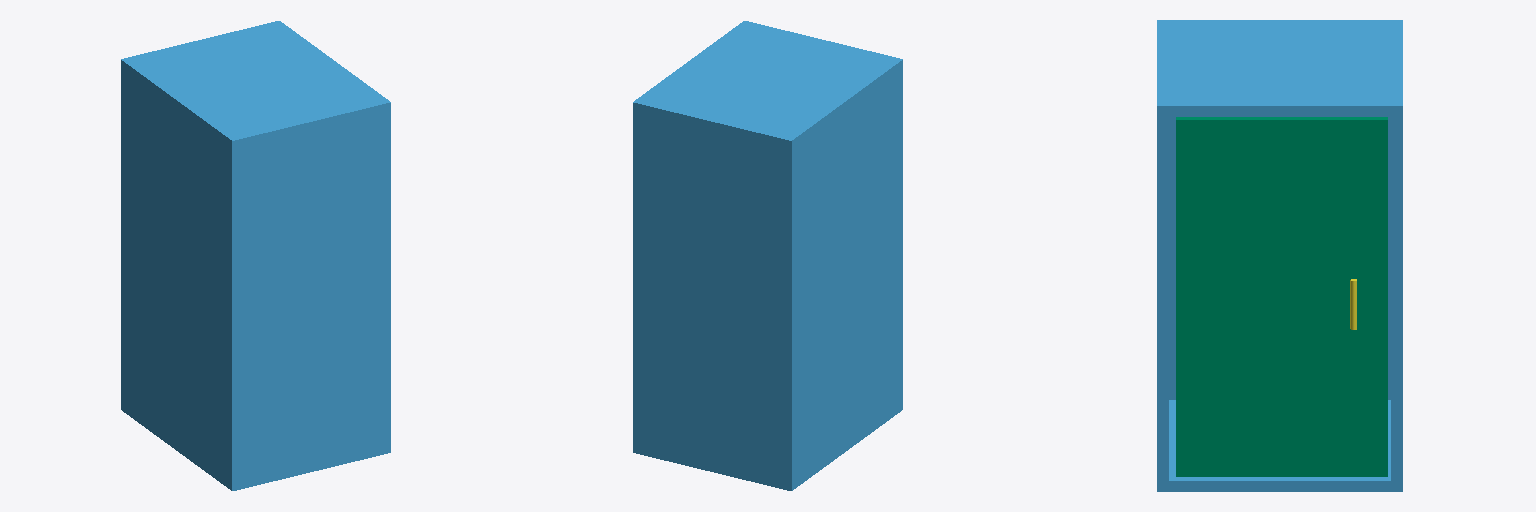
URDF robot description (my_cabinet):
<?xml version="1.0" ?>
<robot name="my_cabinet">
	<link name="world"/>
	<joint name="virtual_joint" type="fixed">
		<parent link="world"/>
		<child link="base_cabinet_link"/>
		<origin xyz="0.0 0.0 0.0" rpy="0.0 0.0 0.0"/>
	</joint>
	<link name="base_cabinet_link">
		<visual>
			<origin xyz="0.0 -0.0025 -0.306959572678262" rpy="0.0 0.0 0.0"/>
			<geometry>
				<box size="0.3 0.3652977279734608 0.018"/>
			</geometry>
		</visual>
		<collision name="base_cabinet_link_collision_0">
			<origin xyz="0.0 -0.0025 -0.306959572678262" rpy="0.0 0.0 0.0"/>
			<geometry>
				<box size="0.3 0.3652977279734608 0.018"/>
			</geometry>
		</collision>
		<visual>
			<origin xyz="0.0 0.1711488639867304 0.0" rpy="0.0 0.0 0.0"/>
			<geometry>
				<box size="0.3 0.018 0.631919145356524"/>
			</geometry>
		</visual>
		<collision name="base_cabinet_link_collision_1">
			<origin xyz="0.0 0.1711488639867304 0.0" rpy="0.0 0.0 0.0"/>
			<geometry>
				<box size="0.3 0.018 0.631919145356524"/>
			</geometry>
		</collision>
		<visual>
			<origin xyz="0.0 -0.1761488639867304 0.0" rpy="0.0 0.0 0.0"/>
			<geometry>
				<box size="0.3 0.018 0.631919145356524"/>
			</geometry>
		</visual>
		<collision name="base_cabinet_link_collision_2">
			<origin xyz="0.0 -0.1761488639867304 0.0" rpy="0.0 0.0 0.0"/>
			<geometry>
				<box size="0.3 0.018 0.631919145356524"/>
			</geometry>
		</collision>
		<visual>
			<origin xyz="0.0 -0.0025 0.306959572678262" rpy="0.0 0.0 0.0"/>
			<geometry>
				<box size="0.3 0.3652977279734608 0.018"/>
			</geometry>
		</visual>
		<collision name="base_cabinet_link_collision_3">
			<origin xyz="0.0 -0.0025 0.306959572678262" rpy="0.0 0.0 0.0"/>
			<geometry>
				<box size="0.3 0.3652977279734608 0.018"/>
			</geometry>
		</collision>
		<visual>
			<origin xyz="-0.141 -0.0025 0.0" rpy="0.0 0.0 0.0"/>
			<geometry>
				<box size="0.018 0.3652977279734608 0.631919145356524"/>
			</geometry>
		</visual>
		<collision name="base_cabinet_link_collision_4">
			<origin xyz="-0.141 -0.0025 0.0" rpy="0.0 0.0 0.0"/>
			<geometry>
				<box size="0.018 0.3652977279734608 0.631919145356524"/>
			</geometry>
		</collision>
		<inertial>
			<mass value="0.200000"/>
			<inertia ixx="0.008879" ixy="0.0" ixz="0.0" iyy="0.008155" iyz="0.0" izz="0.003724"/>
		</inertial>
	</link>
	<link name="door_link">
		<visual>
			<origin xyz="0.0 -0.1571488639867304 0.0"/>
			<geometry>
				<box size="0.018 0.3142977279734608 0.585919145356524"/>
			</geometry>
		</visual>
		<collision name="door_link_collision">
			<origin xyz="0.0 -0.1571488639867304 0.0"/>
			<geometry>
				<box size="0.018 0.3142977279734608 0.585919145356524"/>
			</geometry>
		</collision>
		<inertial>
			<mass value="0.200000"/>
			<inertia ixx="0.007368" ixy="0.0" ixz="0.0" iyy="0.005727" iyz="0.0" izz="0.001652"/>
		</inertial>
	</link>
	<joint name="door_joint" type="revolute">
		<origin xyz="0.141 -0.1571488639867304 0.0" rpy="0.000000 -0.000000 3.141593"/>
		<axis xyz="0 0 1"/>
		<parent link="base_cabinet_link"/>
		<child link="door_link"/>
		<limit effort="50" lower="-1.658062789394613" upper="0" velocity="10"/>
		<dynamics friction="3.5" damping="3.5"/>
	</joint>
	<link name="handle_link">
		<visual>
			<origin xyz="0.0 0.0 0.0" rpy="0.0 0.0 0.0"/>
			<geometry>
				<cylinder length="0.08" radius="0.005"/>
			</geometry>
		</visual>
		<collision name="handle_link_collision_0">
			<origin xyz="0.0 0.0 0.0" rpy="0.0 0.0 0.0"/>
			<geometry>
				<cylinder length="0.08" radius="0.005"/>
			</geometry>
		</collision>
		<visual>
			<origin xyz="-0.01 0.0 0.02" rpy="0.0 1.5707963267948966 0.0"/>
			<geometry>
				<cylinder length="0.02" radius="0.003"/>
			</geometry>
		</visual>
		<collision name="handle_link_collision_1">
			<origin xyz="-0.01 0.0 0.02" rpy="0.0 1.5707963267948966 0.0"/>
			<geometry>
				<cylinder length="0.01" radius="0.003"/>
			</geometry>
		</collision>
		<visual>
			<origin xyz="-0.01 0.0 -0.02" rpy="0.0 1.5707963267948966 0.0"/>
			<geometry>
				<cylinder length="0.02" radius="0.003"/>
			</geometry>
		</visual>
		<collision name="handle_link_collision_2">
			<origin xyz="-0.01 0.0 -0.02" rpy="0.0 1.5707963267948966 0.0"/>
			<geometry>
				<cylinder length="0.02" radius="0.003"/>
			</geometry>
		</collision>
		<inertial>
			<mass value="0.050000"/>
			<inertia ixx="0.000027" ixy="0.0" ixz="0.0" iyy="0.000029" iyz="0.0" izz="0.000003"/>
		</inertial>
	</link>
	<joint name="handle_joint" type="fixed">
		<origin xyz="-0.028999999999999998 -0.2642977279734608 0.0" rpy="0.000000 -0.000000 3.141593"/>
		<parent link="door_link"/>
		<child link="handle_link"/>
	</joint>
	<gazebo reference="base_cabinet_link">
		<sensor name="main_sensor" type="contact">
			<selfCollide>true</selfCollide>
			<alwaysOn>true</alwaysOn>
			<updateRate>5.0</updateRate>
			<material>Gazebo/Red</material>
			<contact>
				<collision>base_cabinet_link_collision_0_collision</collision>
				<collision>base_cabinet_link_collision_1_collision</collision>
				<collision>base_cabinet_link_collision_2_collision</collision>
				<collision>base_cabinet_link_collision_3_collision</collision>
				<collision>base_cabinet_link_collision_4_collision</collision>
			</contact>
			<plugin name="gazebo_ros_bumper_controller" filename="libgazebo_ros_bumper.so">
				<bumperTopicName>/contact</bumperTopicName>
				<frameName>world</frameName>
			</plugin>
		</sensor>
	</gazebo>
	<gazebo reference="door_link">
		<sensor name="main_sensor" type="contact">
			<selfCollide>true</selfCollide>
			<alwaysOn>true</alwaysOn>
			<updateRate>5.0</updateRate>
			<material>Gazebo/Red</material>
			<contact>
				<collision>door_link_collision_collision</collision>
			</contact>
			<plugin name="gazebo_ros_bumper_controller" filename="libgazebo_ros_bumper.so">
				<bumperTopicName>/contact_door</bumperTopicName>
				<frameName>contact_door</frameName>
			</plugin>
		</sensor>
	</gazebo>
	<gazebo reference="door_link">
		<mu>3.0</mu>
		<mu2>3.0</mu2>
		<kp>10000000</kp>
		<kd>100</kd>
	</gazebo>
</robot>

--- What the picture shows (computed from the rendered views, not written in the file) ---
Views: 3 orthographic renders of the robot side by side, from view 1: azimuth 30°, elevation 25°; view 2: azimuth 150°, elevation 25°; view 3: azimuth 270°, elevation 25°.
Robot: my_cabinet — 4 links, 3 joints (1 revolute, 2 fixed); root link world; default pose: all joints at 0.
Visible links, largest first — view 1: base_cabinet_link; view 2: base_cabinet_link; view 3: door_link, base_cabinet_link.
Link boxes in pixels (box(x1,y1,x2,y2)): base_cabinet_link: box(121, 21, 390, 490); base_cabinet_link: box(633, 21, 902, 490); door_link: box(1176, 117, 1387, 476); base_cabinet_link: box(1157, 20, 1402, 491).
Bounding box of the posed robot: 0.325 × 0.3653 × 0.6319 m (x, y, z).
Geometry: primitives only (box / cylinder / sphere), no mesh files.
